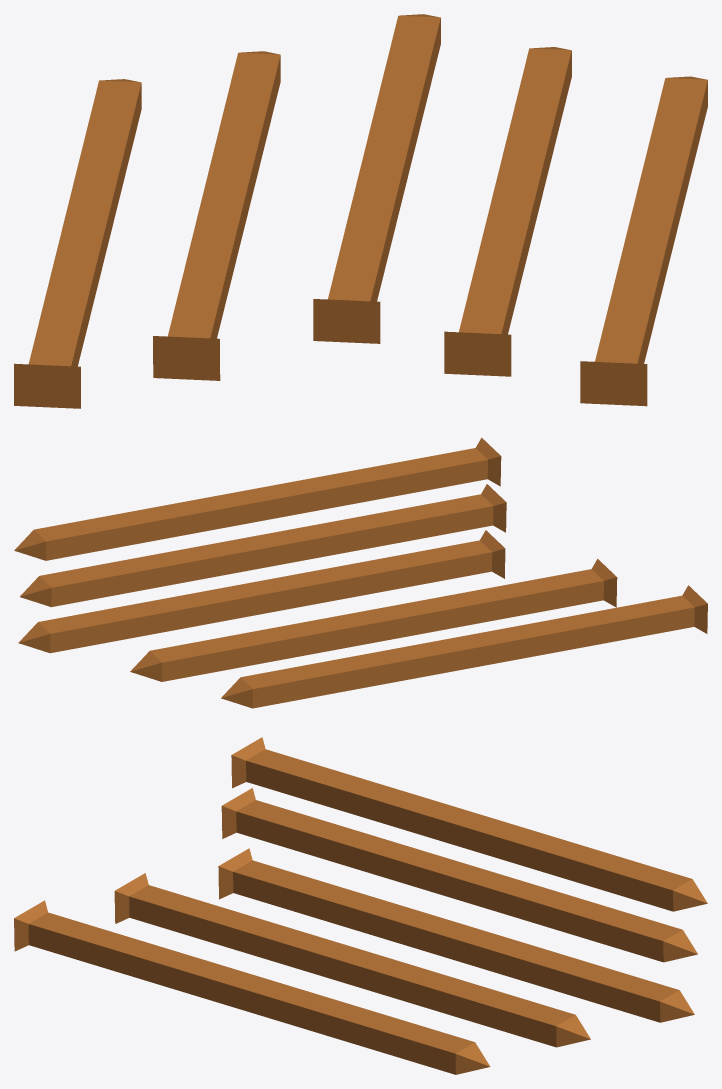
The model's file is copper_nails.glb.
3 renders of one model, top to bottom at view 1: azimuth 30°, elevation 25°; view 2: azimuth 150°, elevation 25°; view 3: azimuth 270°, elevation 25°, orthographic. The views are drawn at different scales.
Visible parts, largest first — view 1: copper_nails; view 2: copper_nails; view 3: copper_nails.
Part boxes in pixels (x1=…): copper_nails: x1=14, y1=14, x2=707, y2=408; copper_nails: x1=14, y1=437, x2=707, y2=708; copper_nails: x1=14, y1=737, x2=707, y2=1074.
Size of the model in its own units: 0.1464 by 0.00723 by 0.1367.
